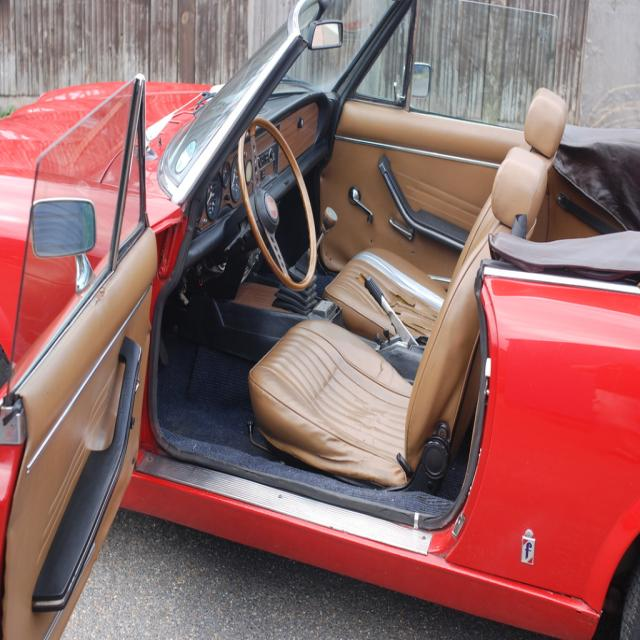car: (31, 40, 616, 638)
